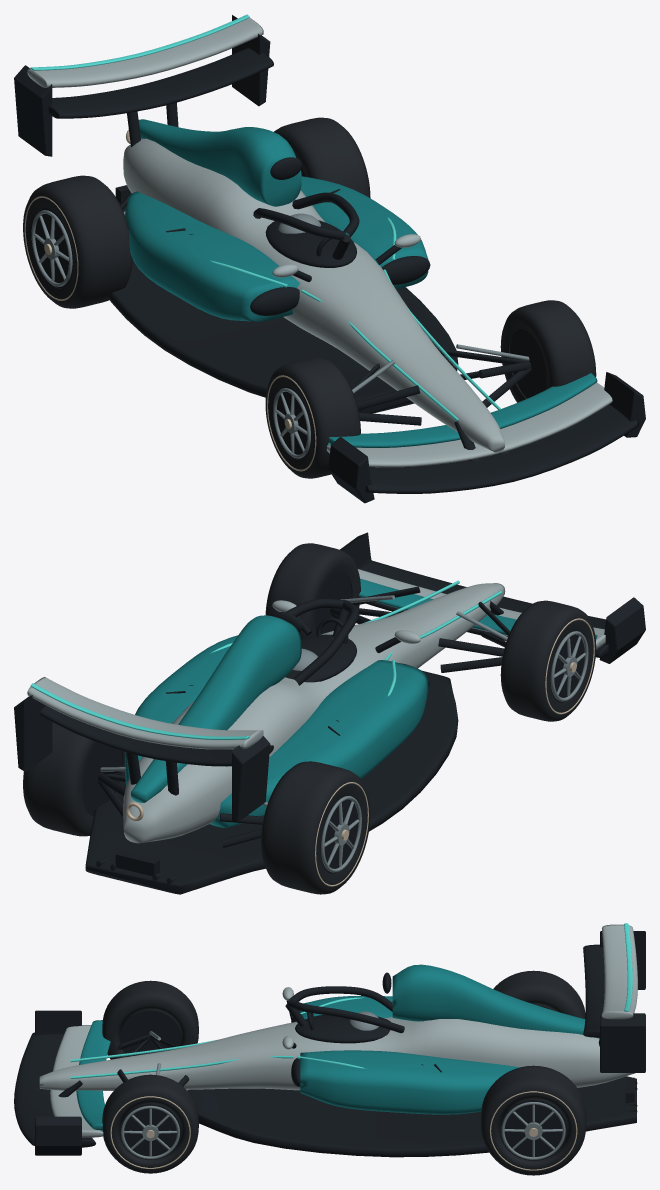
The model's file is car.glb.
3 views of the same model, one above another, from view 1: azimuth 30°, elevation 25°; view 2: azimuth 150°, elevation 25°; view 3: azimuth 270°, elevation 25° (orthographic). The views are drawn at different scales.
Visible parts, largest first — view 1: Chassis, Front wing, Sidepods, Rear wheels, Rear wing, Front wheels, Engine cover, Suspension, Cockpit, Halo, Livery, Mirrors; view 2: Chassis, Rear wheels, Sidepods, Front wheels, Rear wing, Engine cover, Front wing, Suspension, Cockpit, Halo, Tail, Livery (+1 smaller); view 3: Chassis, Front wheels, Sidepods, Rear wheels, Front wing, Rear wing, Engine cover, Cockpit, Halo, Livery, Suspension.
Boxes of the visible parts, x1,y1,x2,y2 form: Chassis: (108,138,505,452); Front wing: (326,372,645,503); Sidepods: (125,176,430,321); Rear wheels: (23,117,370,308); Rear wing: (14,14,273,156); Front wheels: (265,300,596,478); Engine cover: (138,119,302,206); Suspension: (120,196,531,425); Cockpit: (265,213,356,267); Halo: (253,192,359,259); Livery: (210,217,501,421); Mirrors: (272,234,420,281); Chassis: (85,583,505,894); Rear wheels: (23,722,370,894); Sidepods: (125,635,430,827); Front wheels: (265,543,596,721); Rear wing: (14,677,273,822); Engine cover: (131,612,302,802); Front wing: (340,532,645,663); Suspension: (98,586,510,847); Cockpit: (285,617,356,682); Halo: (286,598,359,685); Tail: (115,802,159,876); Livery: (210,580,502,696); Chassis: (39,1016,636,1157); Front wheels: (102,980,198,1173); Sidepods: (291,995,519,1114); Rear wheels: (481,970,586,1175); Front wing: (14,1010,110,1155); Rear wing: (583,923,645,1072); Engine cover: (382,964,599,1038); Cockpit: (295,1011,390,1043); Halo: (285,986,404,1033); Livery: (70,997,366,1078); Suspension: (117,1031,189,1086).
Bounding box in the file's own units: 2.54 × 1.53 × 5.69.
